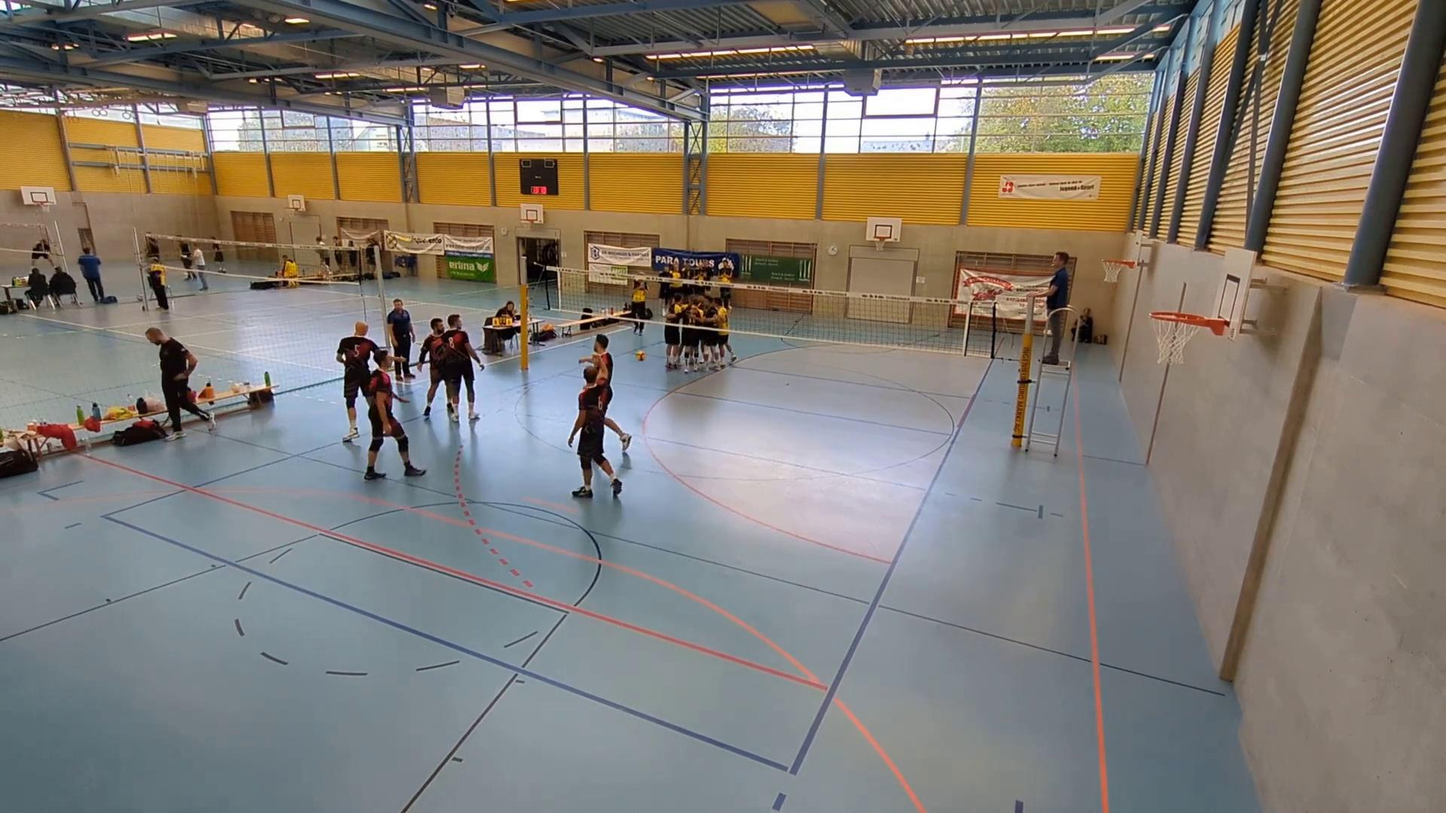Player: (363, 351, 426, 480), (567, 365, 624, 499), (574, 331, 633, 457), (427, 315, 477, 422), (337, 321, 380, 444), (415, 317, 444, 417), (679, 294, 706, 372), (694, 295, 720, 371), (711, 302, 737, 368), (663, 297, 686, 370)
ball: (631, 349, 645, 362)
